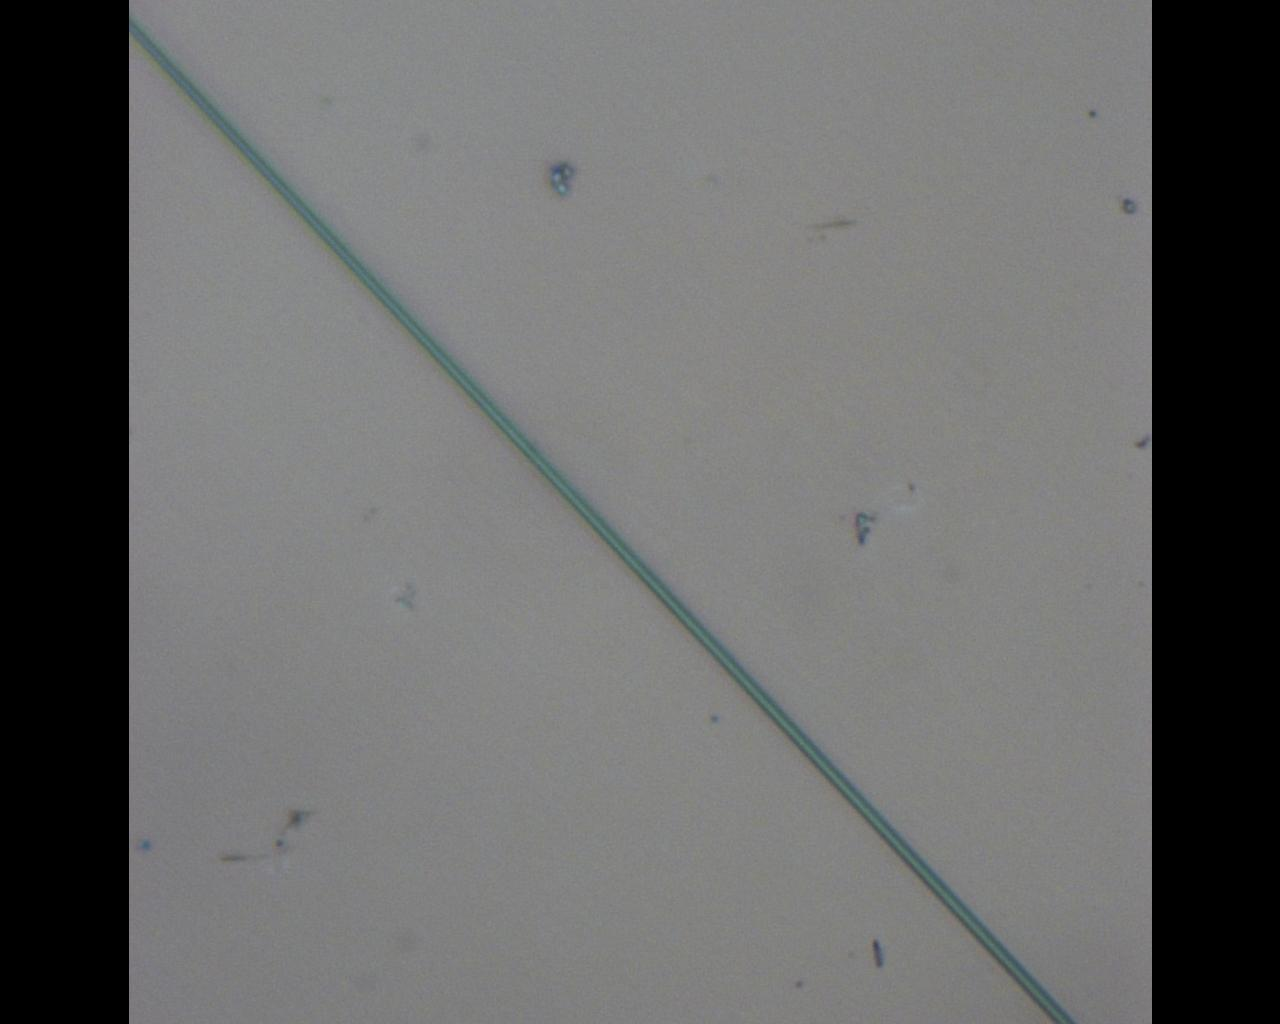fiber: (127, 14, 1078, 1024)
